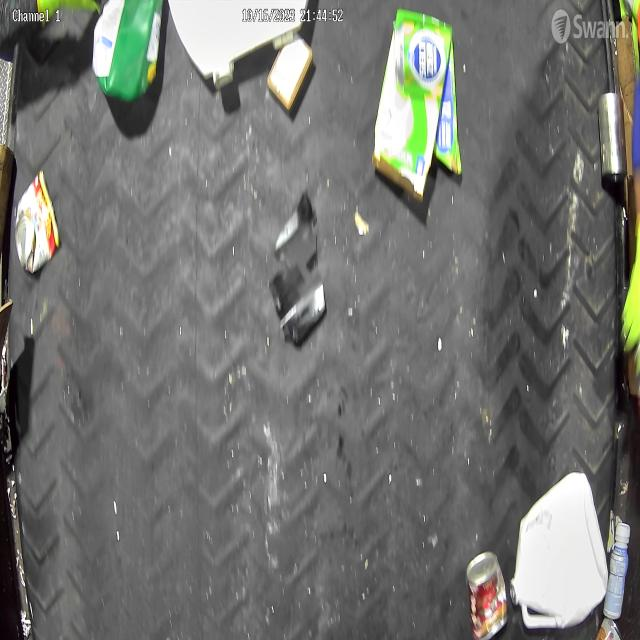can: (15, 169, 60, 276), (466, 550, 508, 640), (597, 91, 627, 184), (595, 618, 622, 640)
milk_jug: (509, 471, 609, 630)
non_white_jug: (93, 0, 164, 103)
